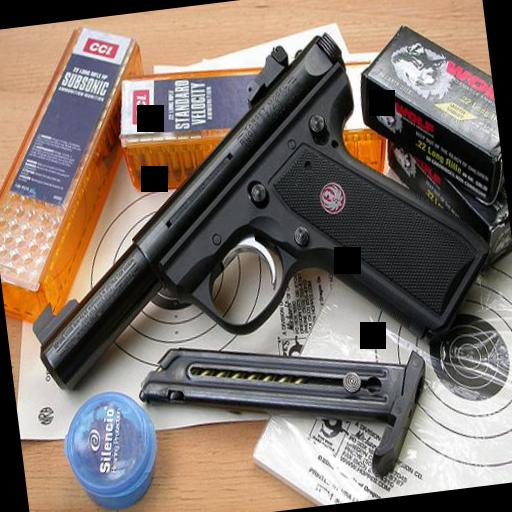Handgun: (0, 14, 499, 393)
